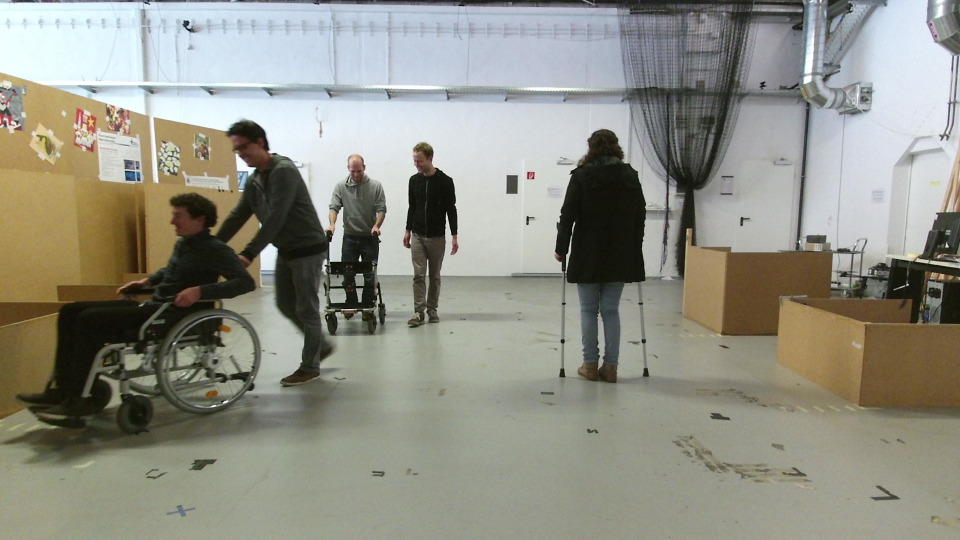crutches: (547, 127, 652, 384)
